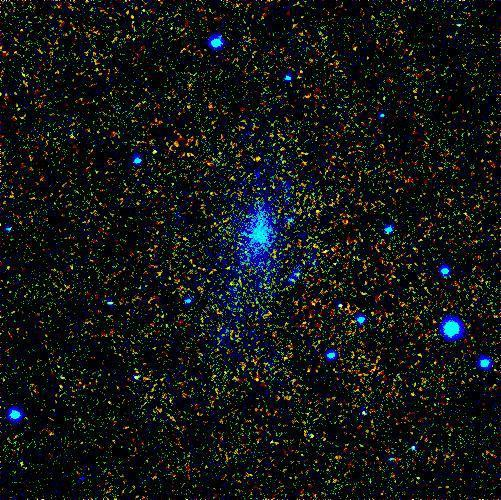star: (243, 145, 273, 175)
